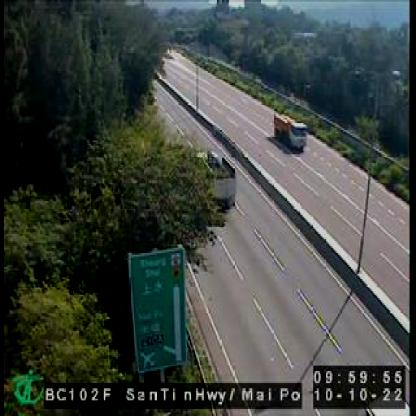Truck: (196, 151, 237, 213), (272, 111, 306, 153)
